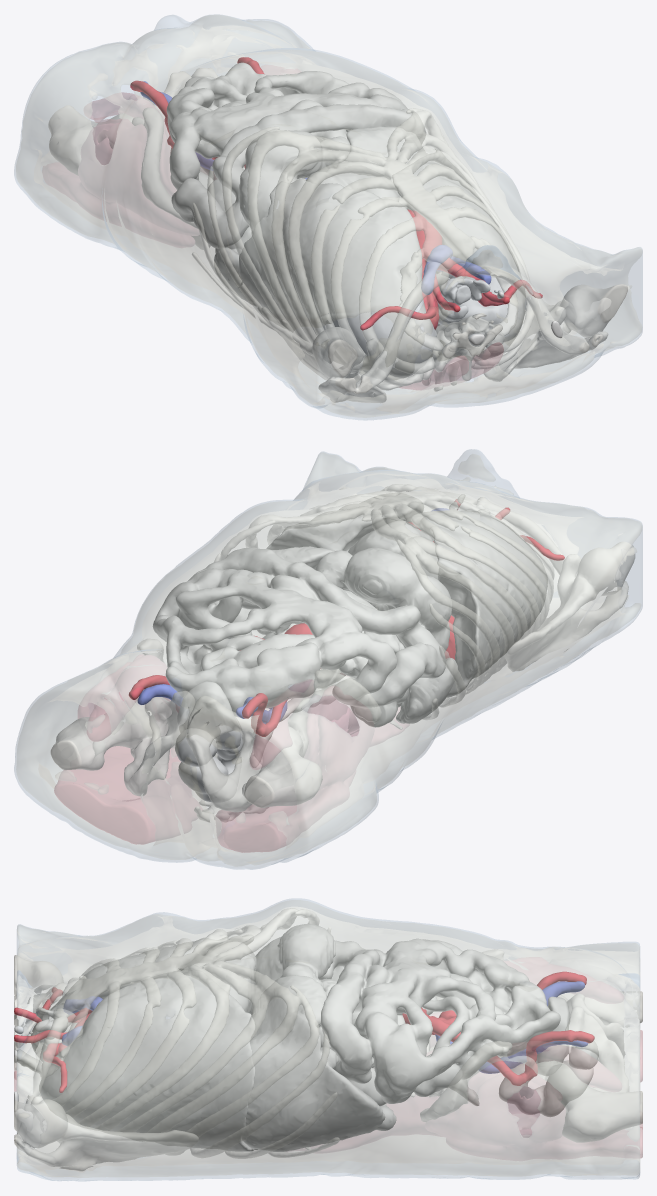
The model's file is patient split.glb.
The picture shows the model from 3 angles, top to bottom: view 1: azimuth 30°, elevation 25°; view 2: azimuth 150°, elevation 25°; view 3: azimuth 270°, elevation 25°; orthographic projection. The views are drawn at different scales.
Parts seen in each view (by area): view 1: skin, adipose, lung, ribcage, gut, bone, arterial, muscle, liver, heart, rest, venous (+2 smaller); view 2: skin, adipose, gut, bone, lung, ribcage, muscle, rest, heart, arterial, spleen, kidney (+2 smaller); view 3: skin, adipose, gut, lung, ribcage, bone, liver, arterial, rest, heart, venous, muscle.
Boxes of the visible parts, box(x1,y1,x2,y2) form: skin: box(14, 14, 642, 420); adipose: box(16, 15, 641, 417); lung: box(239, 149, 526, 379); ribcage: box(192, 108, 534, 390); gut: box(166, 62, 562, 338); bone: box(48, 68, 627, 402); arterial: box(130, 57, 542, 330); muscle: box(90, 92, 503, 389); liver: box(337, 126, 428, 197); heart: box(306, 166, 438, 273); rest: box(184, 76, 504, 361); venous: box(140, 81, 491, 294); skin: box(14, 449, 642, 869); adipose: box(17, 453, 641, 865); gut: box(152, 547, 451, 802); bone: box(50, 487, 635, 822); lung: box(266, 493, 547, 697); ribcage: box(214, 484, 554, 729); muscle: box(54, 679, 359, 852); rest: box(175, 494, 489, 767); heart: box(346, 521, 438, 579); arterial: box(128, 499, 564, 736); spleen: box(396, 658, 457, 723); kidney: box(339, 631, 408, 727); skin: box(16, 898, 640, 1181); adipose: box(17, 900, 639, 1177); gut: box(14, 924, 593, 1116); lung: box(31, 934, 257, 1151); ribcage: box(22, 908, 339, 1158); bone: box(14, 949, 642, 1170); liver: box(241, 975, 385, 1151); arterial: box(14, 971, 594, 1092); rest: box(14, 996, 598, 1105); heart: box(182, 942, 256, 1012); venous: box(62, 981, 588, 1073); muscle: box(14, 1030, 642, 1158).
Size of the model in its own units: 0.4006 by 0.2671 by 0.6887.
